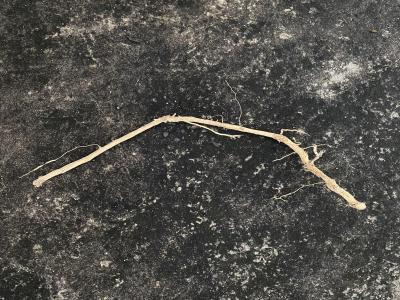Root: (33, 114, 364, 209)
